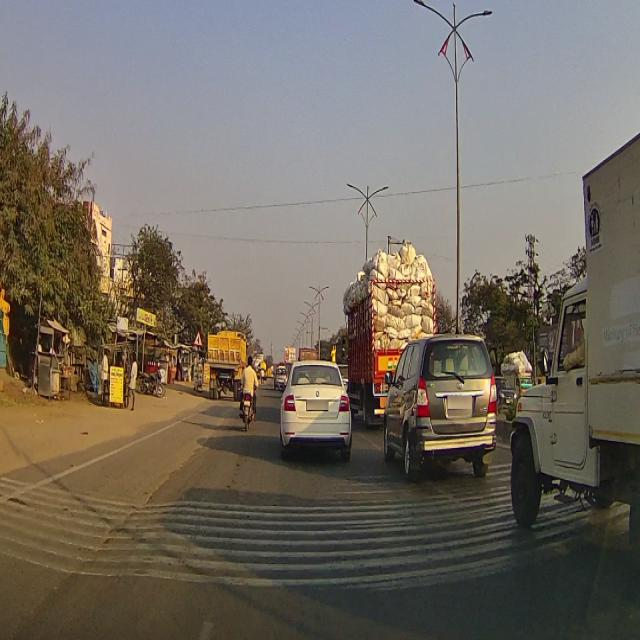car ahead at: (383, 341, 500, 470), (280, 356, 352, 452)
truck ahead at: (510, 133, 638, 528)
